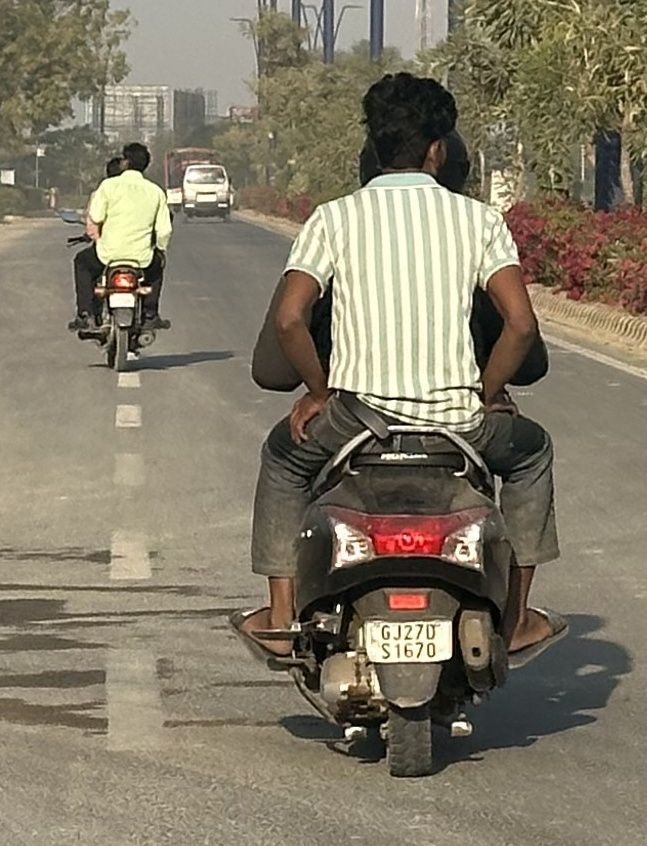BikeWithRider: (217, 58, 579, 786), (57, 134, 183, 376)
NoHelmet: (344, 63, 472, 198), (117, 137, 155, 180), (100, 150, 130, 182)
